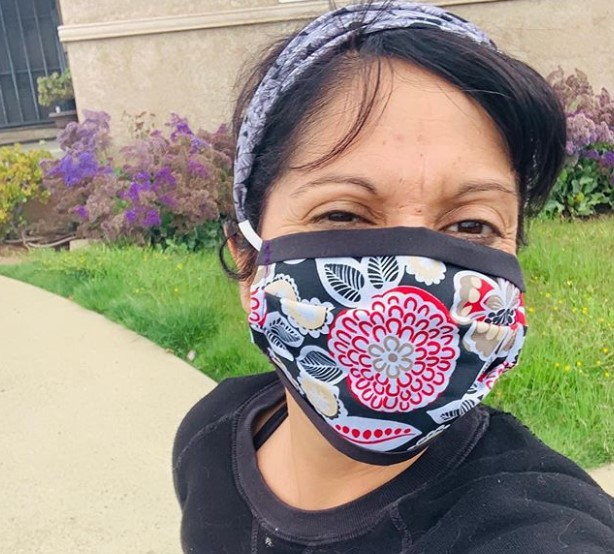face_with_mask: (225, 0, 569, 475)
